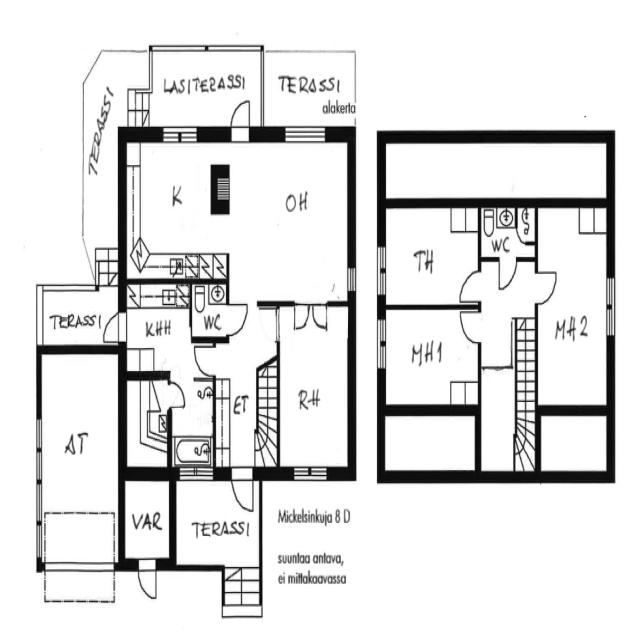door: (229, 466, 256, 516), (292, 298, 328, 334), (532, 264, 560, 310), (135, 556, 161, 604), (229, 96, 254, 142), (190, 339, 218, 378), (223, 298, 250, 338), (100, 309, 128, 346), (458, 305, 483, 346), (457, 267, 483, 306), (258, 306, 282, 346), (495, 253, 518, 293), (166, 380, 187, 411)
window: (31, 418, 47, 566), (280, 119, 330, 146), (157, 120, 203, 146), (288, 461, 332, 487), (178, 459, 216, 487), (603, 271, 617, 342), (376, 240, 389, 302), (376, 315, 388, 377), (346, 261, 358, 299)
zone: (224, 140, 349, 304), (39, 348, 120, 571), (535, 202, 611, 412), (124, 140, 228, 284), (278, 304, 351, 472), (378, 306, 482, 409), (381, 203, 479, 304), (121, 278, 190, 374), (169, 358, 214, 467), (123, 375, 169, 471), (121, 476, 173, 560), (480, 205, 538, 258), (191, 280, 229, 340)
